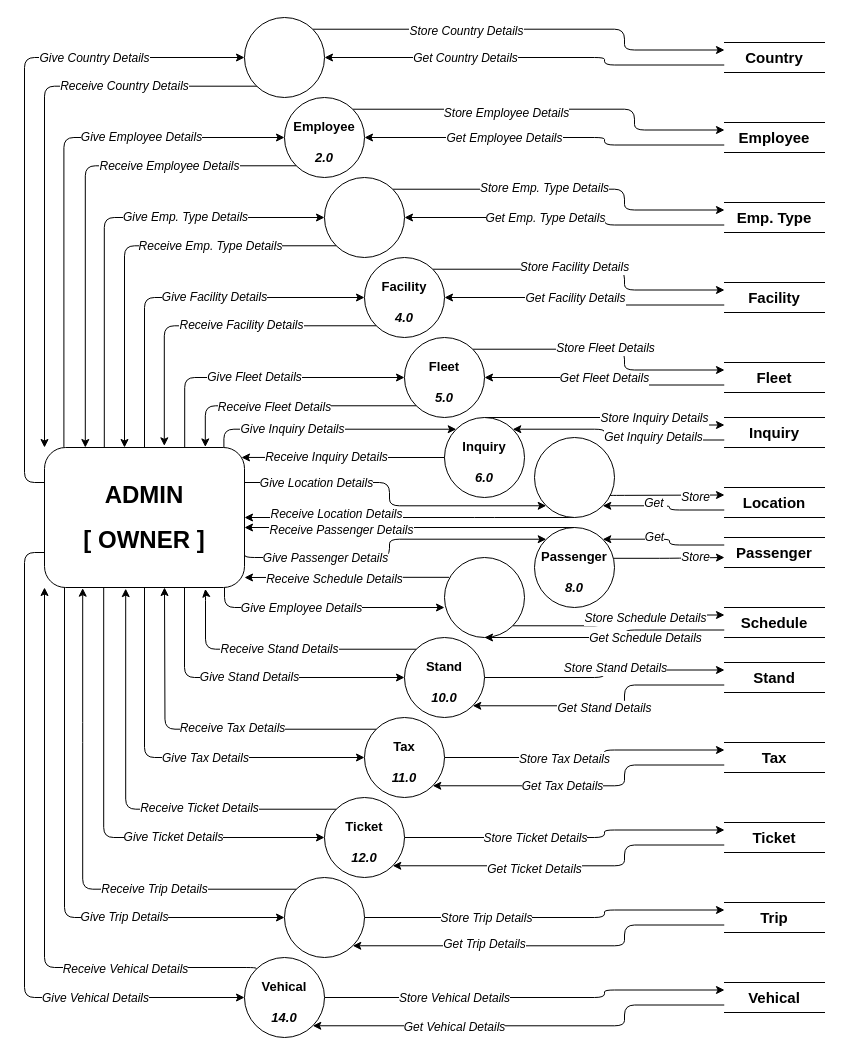
Some shapes in this 842 by 1055 pixel diagram are drawn without their labels. The shapes that lost their labels are listed below. From the top down, each one's centre as x and y in pixels, then its label:
At point (284, 57): "Country 1.0".
At point (364, 217): "Emp. Type 3.0".
At point (574, 477): "Location 7.0".
At point (484, 597): "Schedule 9.0".
At point (324, 917): "Trip 13.0".
